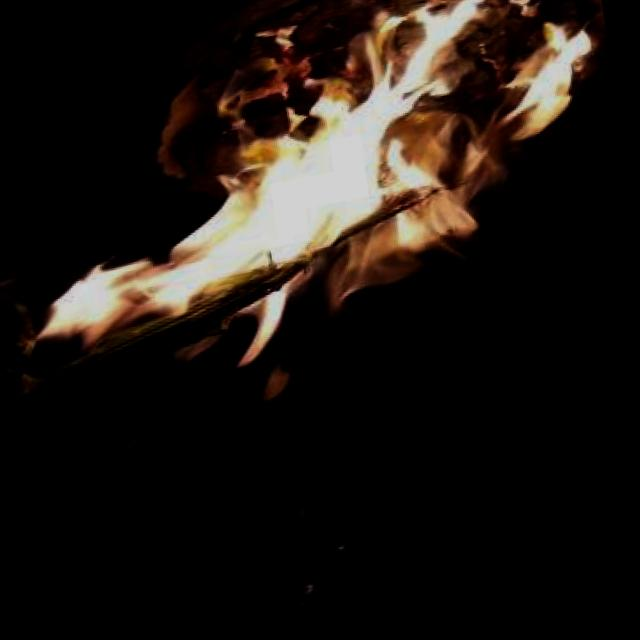helmet: (0, 0, 637, 452)
